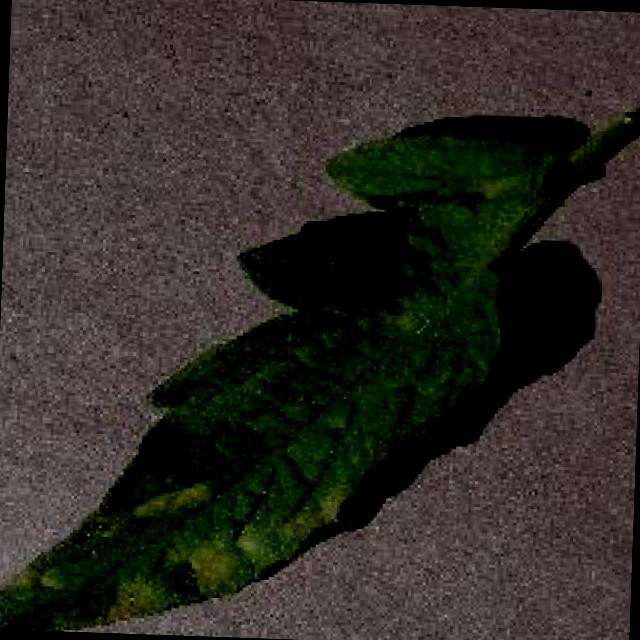leaf mold: (0, 110, 640, 632)
